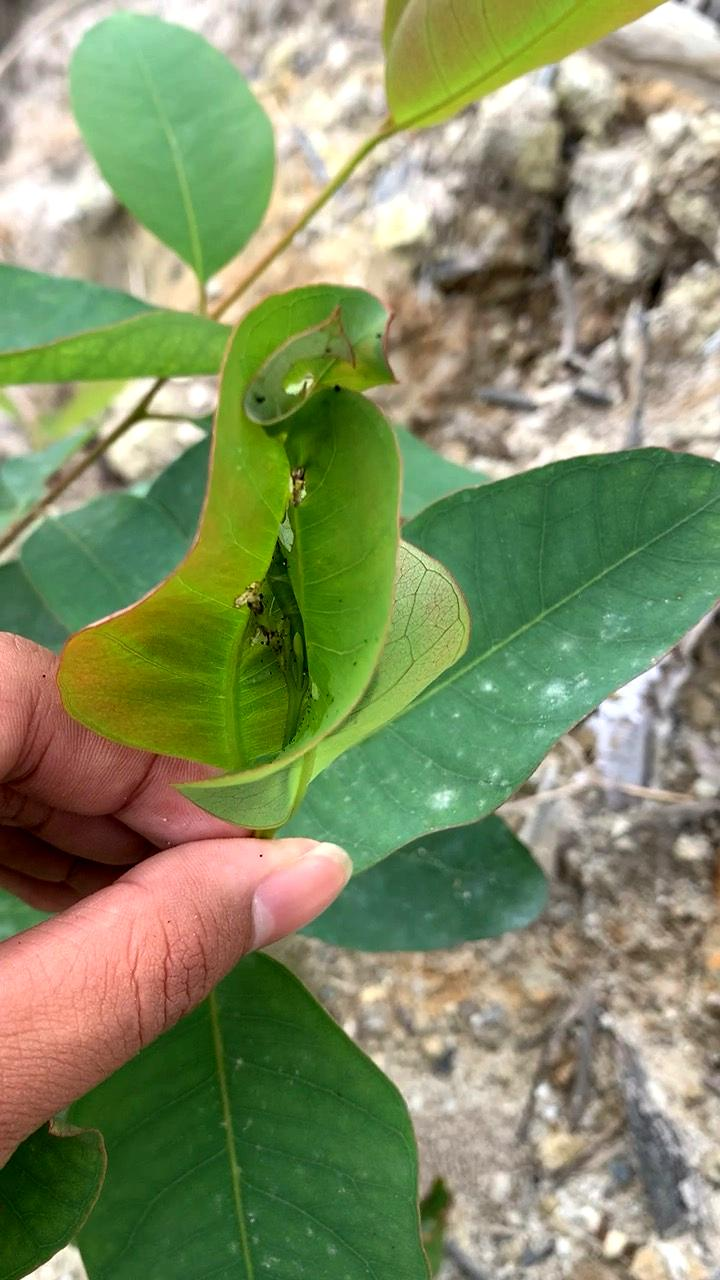Leaf Roller - Leaf: (41, 263, 496, 868)
